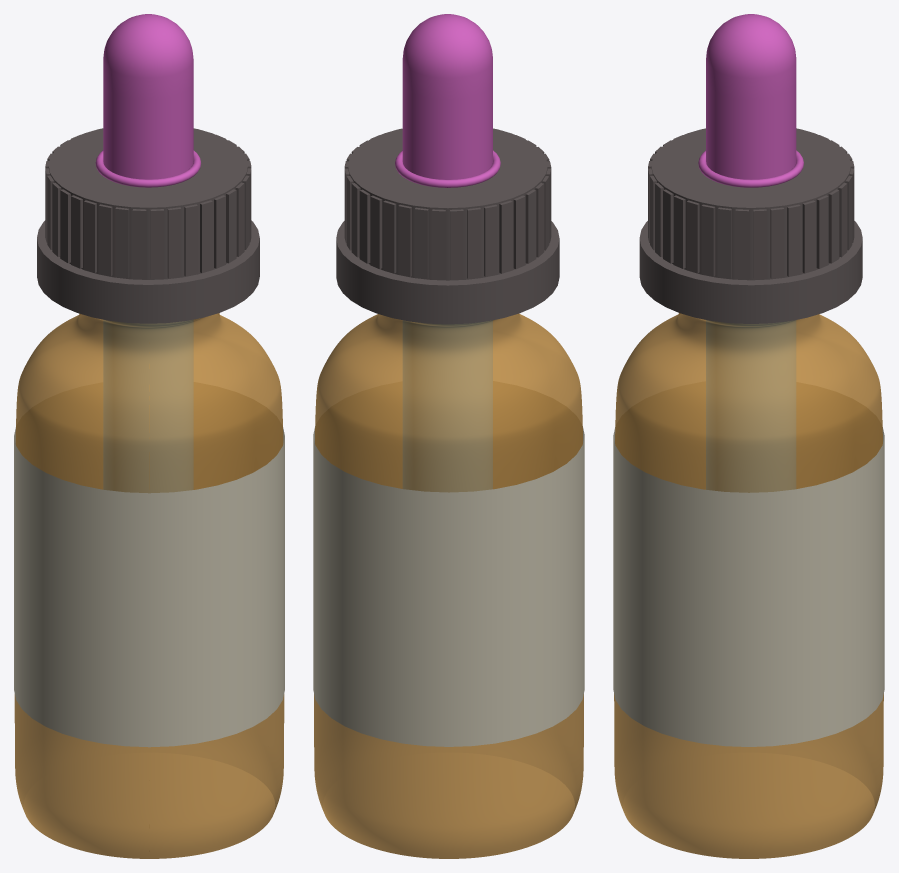
File: affix_dropper.glb
3 renders of one model, left to right at view 1: azimuth 30°, elevation 25°; view 2: azimuth 150°, elevation 25°; view 3: azimuth 270°, elevation 25°, orthographic.
Parts seen in each view (by area): view 1: affix_dropper; view 2: affix_dropper; view 3: affix_dropper.
Part boxes in pixels (x1,y1,x2,y2): affix_dropper: [14, 14, 284, 858]; affix_dropper: [313, 14, 584, 858]; affix_dropper: [613, 14, 884, 858].
Size of the model in its own units: 0.0999 by 0.32 by 0.0999.
